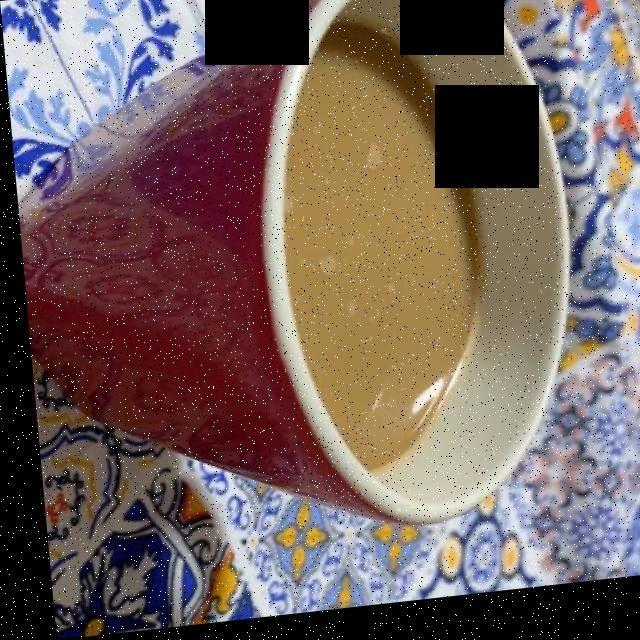drink: (171, 34, 613, 513)
